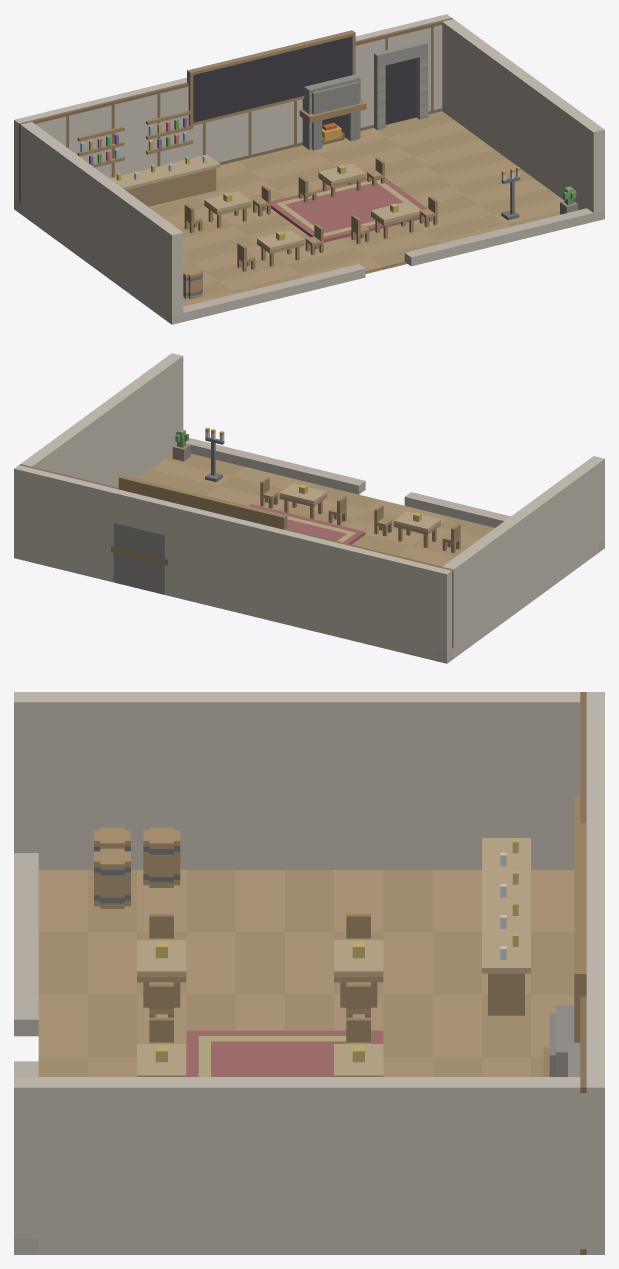
Rendered from piece_taverne.glb.
3 renders of one model, top to bottom at view 1: azimuth 30°, elevation 25°; view 2: azimuth 150°, elevation 25°; view 3: azimuth 270°, elevation 25°, orthographic. The views are drawn at different scales.
Visible parts, largest first — view 1: geometry_0; view 2: geometry_0; view 3: geometry_0.
Part boxes in pixels (x1=…): geometry_0: x1=14, y1=14, x2=604, y2=324; geometry_0: x1=14, y1=353, x2=604, y2=663; geometry_0: x1=14, y1=692, x2=604, y2=1254.
Bounding box in the file's own units: 19 × 4.38 × 12.
